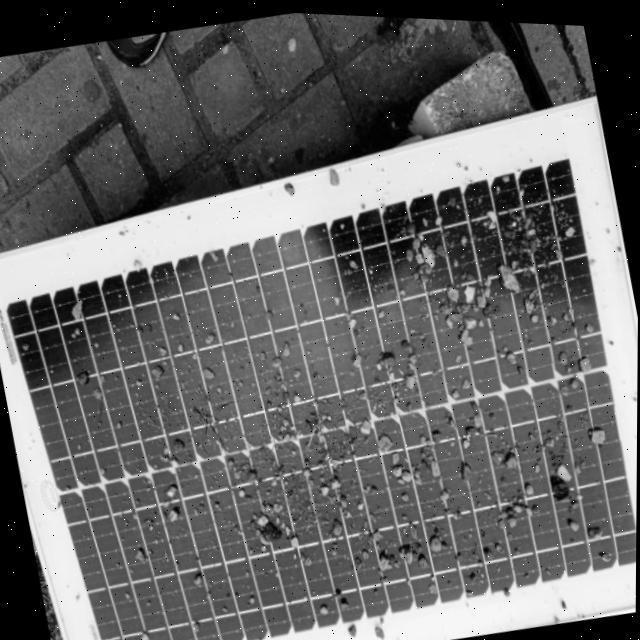Anomaly Solar Panel: (0, 117, 639, 640)
Surface Contaminant: (13, 177, 638, 640)
